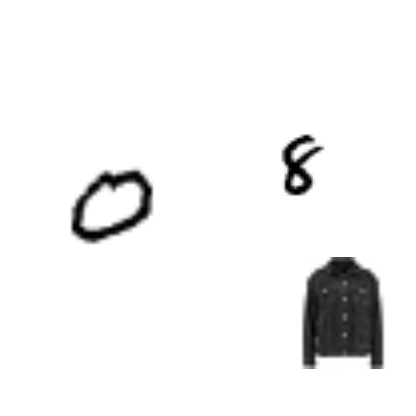0: (56, 147, 168, 259)
8: (255, 123, 339, 207)
Coat: (287, 257, 399, 369)
Dress: (101, 222, 115, 236)
Sneaker: (359, 323, 373, 337)
